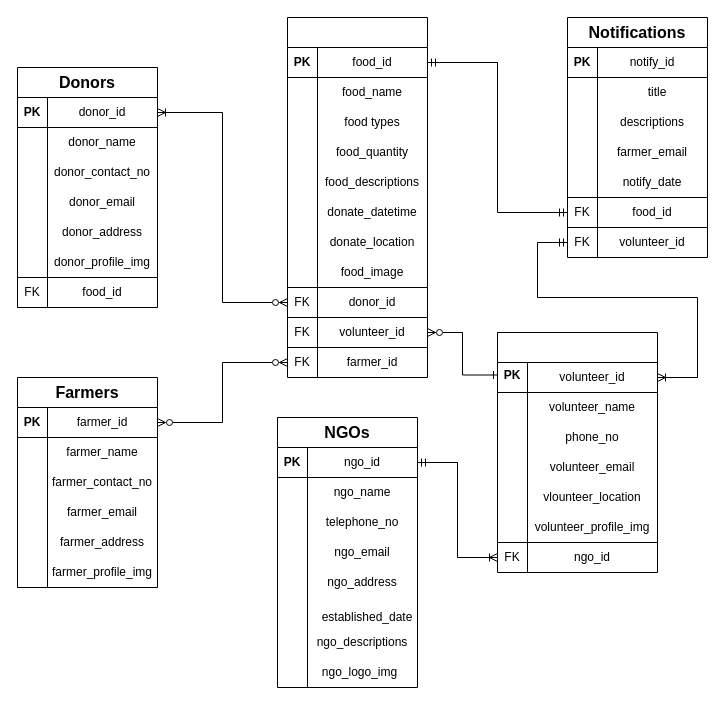
The diagram is 726 pixels wide and 706 high, and some of its shapes have lost their labels. The shapes that lost their labels are listed below. From the top down, each one's box as (x1, y1, x2, y2) in pixels, then its label:
(286, 16, 428, 378): Food_Items
(496, 332, 658, 572): Volunteers
